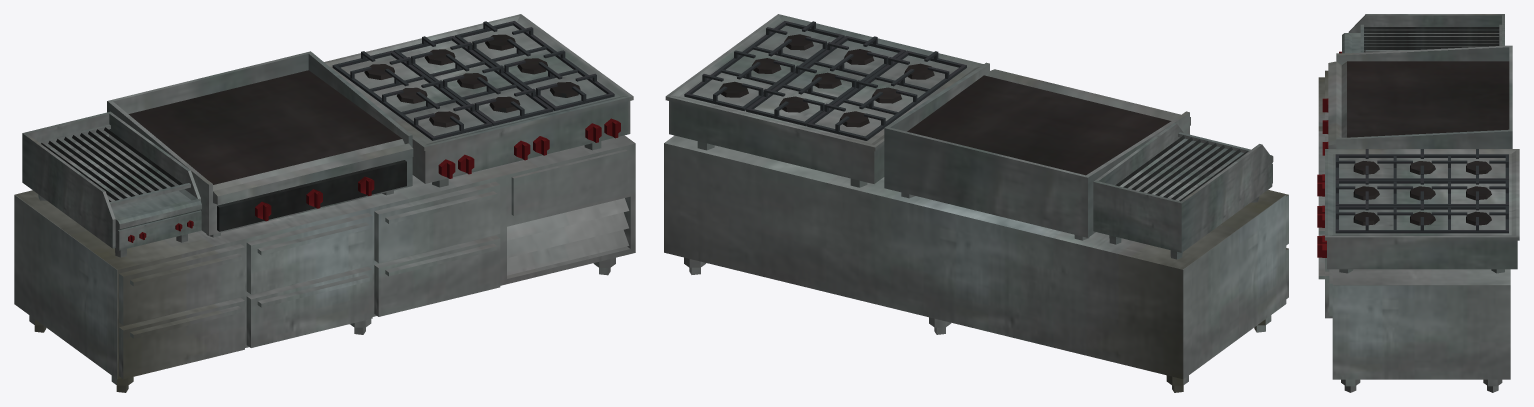
File: Stove.glb
3 renders of one model, left to right at view 1: azimuth 30°, elevation 25°; view 2: azimuth 150°, elevation 25°; view 3: azimuth 270°, elevation 25°, orthographic. The views are drawn at different scales.
Parts seen in each view (by area): view 1: Stoves; view 2: Stoves; view 3: Stoves.
Part boxes in pixels (x1=…): Stoves: x1=14, y1=14, x2=635, y2=392; Stoves: x1=664, y1=14, x2=1288, y2=392; Stoves: x1=1317, y1=14, x2=1519, y2=392.
Size of the model in its own units: 3.71 by 1.38 by 1.45.
Materials: 3 (3 with a texture image).
